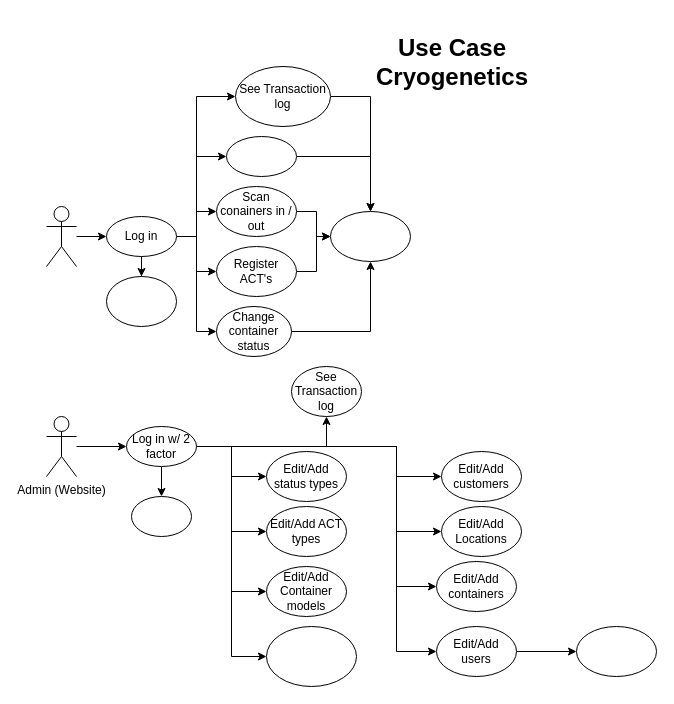
This 674x704 diagram has some shape labels left out. The box of each missing label's shape, as (x1, y1, x2, y2) in pixels:
Assign Admin: (576, 626, 656, 676)
Download Monthly report: (266, 626, 356, 686)
Log out: (130, 496, 192, 536)
Log out / switch user: (106, 276, 176, 326)
See individual tank log: (330, 210, 410, 262)
See local inventory: (226, 136, 296, 176)
User (App): (46, 206, 76, 266)
